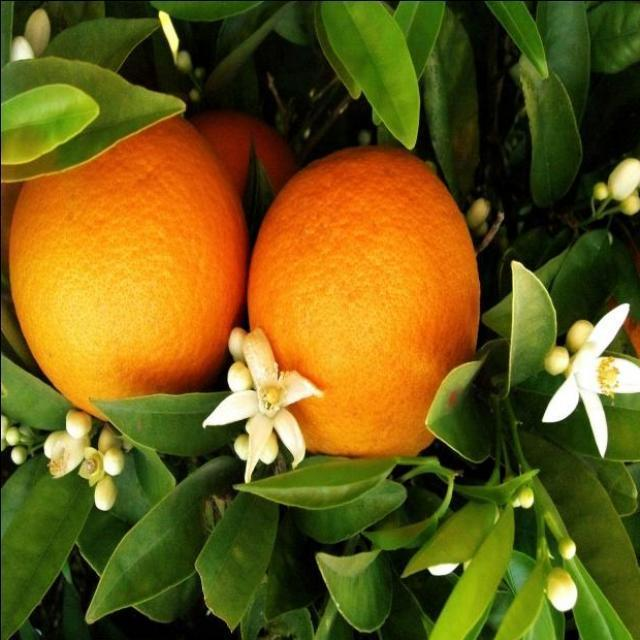organic: (230, 146, 484, 488), (4, 106, 248, 439)
